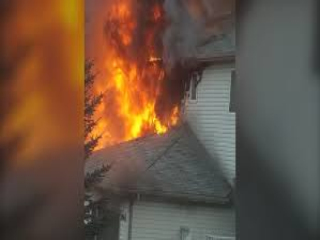fire: (98, 26, 173, 139)
smoke: (160, 3, 221, 78)
